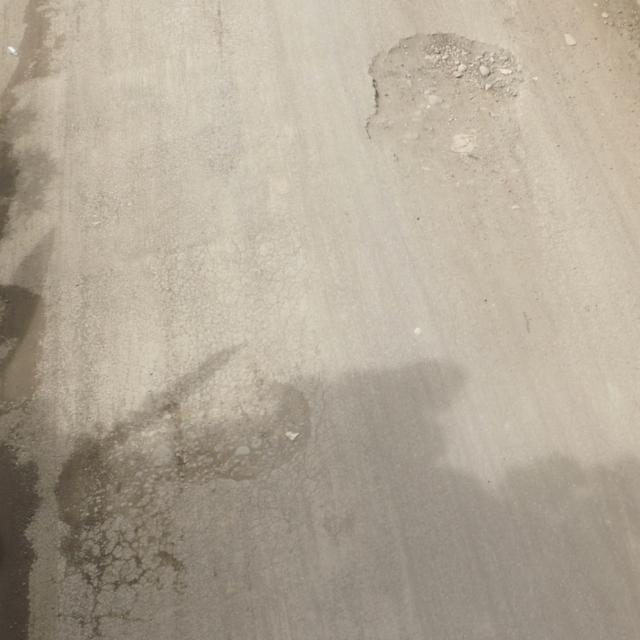BACHE: (365, 35, 525, 166), (158, 378, 311, 483), (54, 414, 161, 526)
PIEL DE COCODRILO: (152, 235, 320, 373), (57, 506, 200, 617), (228, 455, 334, 590)
